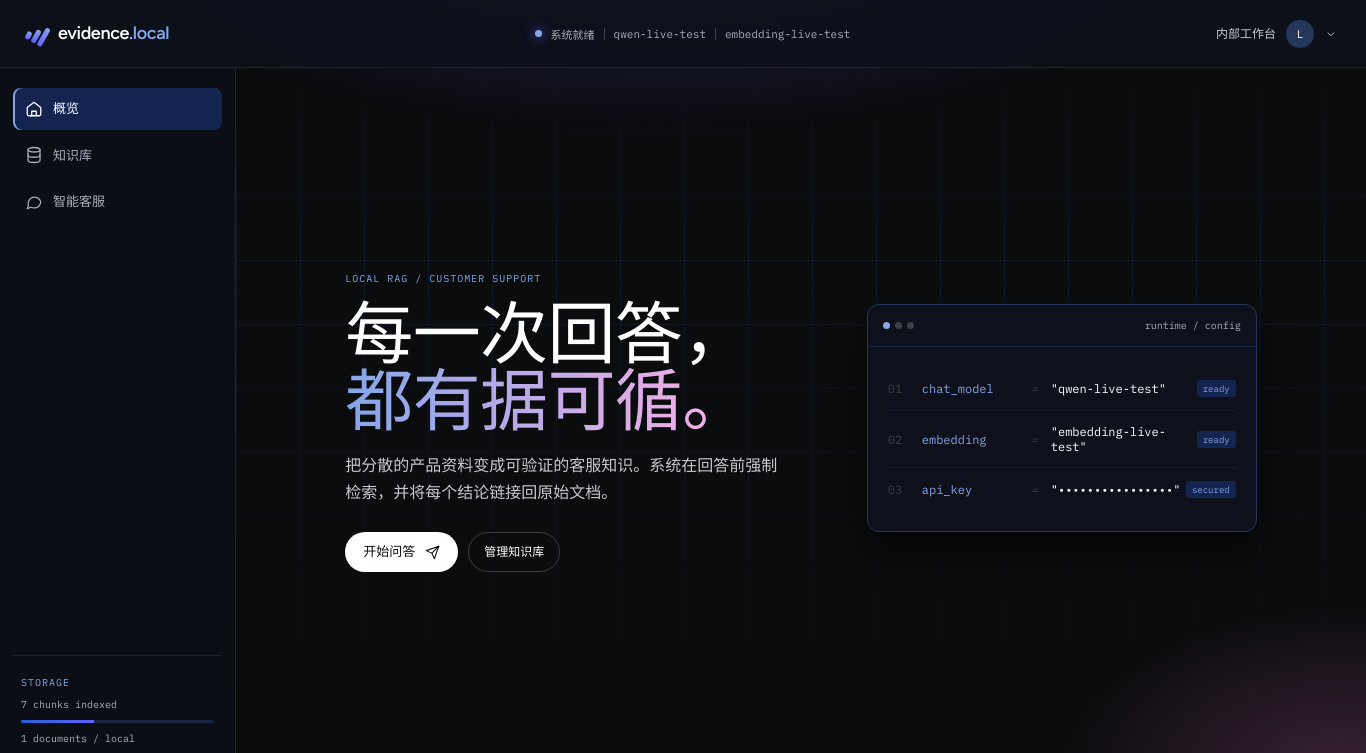
Scenario: 应用外壳与知识库页面 › 启用重排时展示 Top-K 与独立重排分数，不显示旧阈值
Expected: the text "\"qwen-live-test\"" is shown, x1=1051 y1=381 x2=1166 y2=396
Click the button "智能客服" at (118, 202), box x1=13 y1=181 x2=222 y2=222
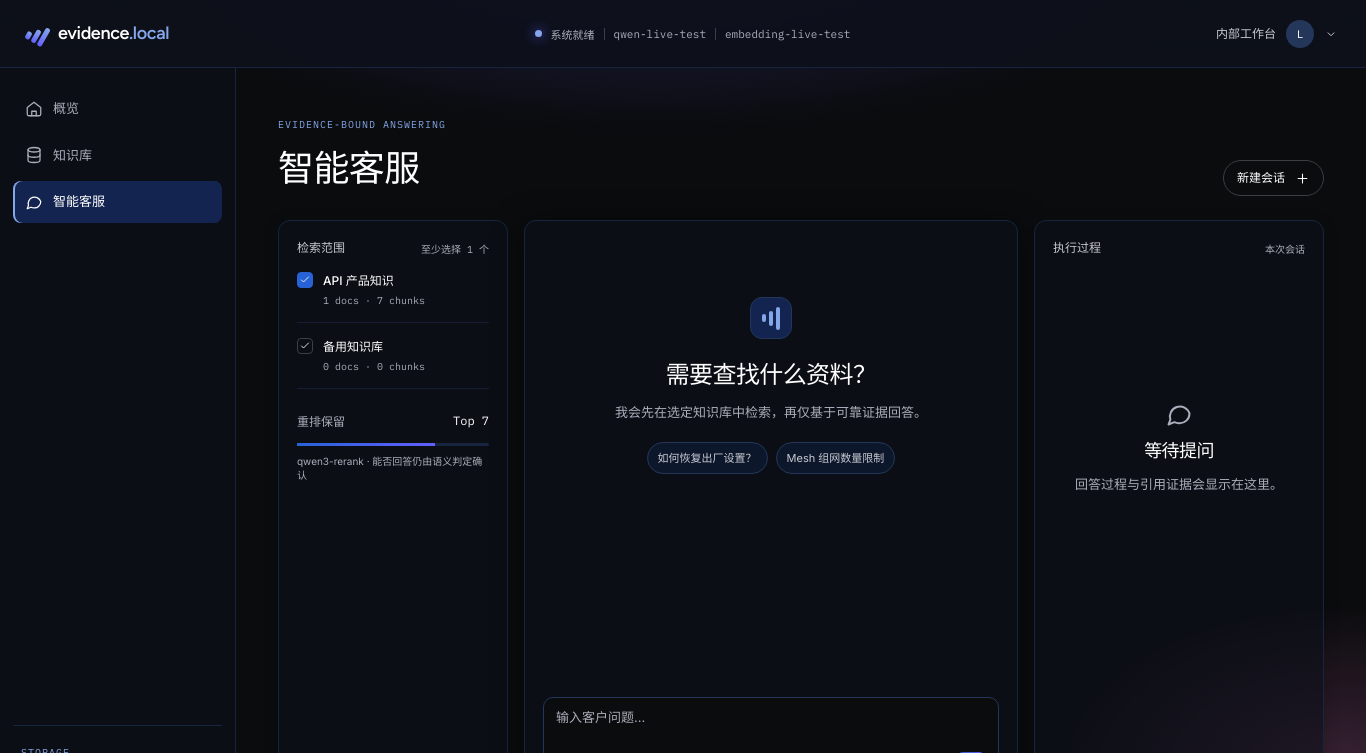
Now the text "重排保留" is shown, box x1=297 y1=414 x2=345 y2=429
Now the text "Top 7" is shown, box x1=453 y1=413 x2=489 y2=428
Now the text "qwen3-rerank · 能否回答仍由语义判定确认" is shown, box x1=297 y1=454 x2=489 y2=482
Type "能接打印机吗？" into the text box labelled "客户问题" at (771, 727), box x1=556 y1=708 x2=986 y2=746
(page scrolled)
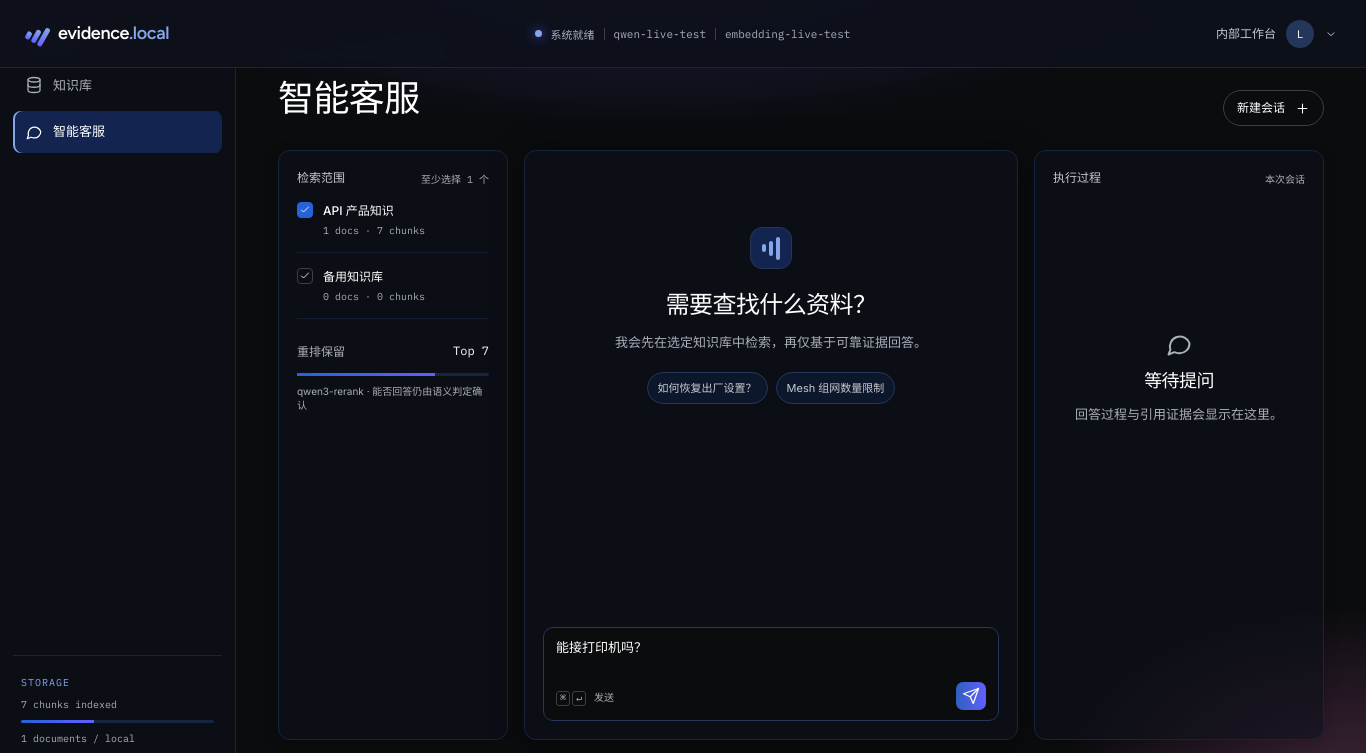
Click the button named "发送问题" at (971, 696), box x1=956 y1=682 x2=986 y2=710
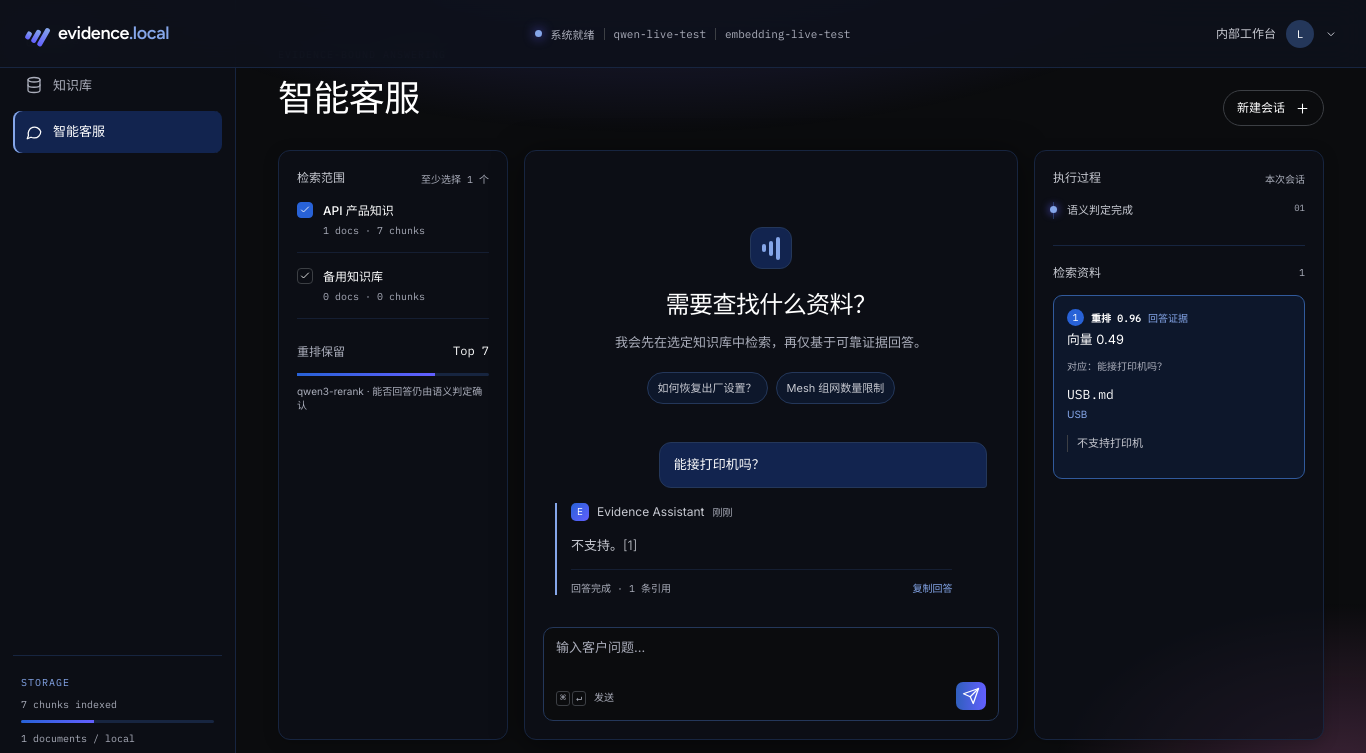
Now the text "重排 0.96" is shown, box x1=1091 y1=310 x2=1141 y2=324
Now the text "向量 0.49" is shown, box x1=1067 y1=332 x2=1124 y2=346
